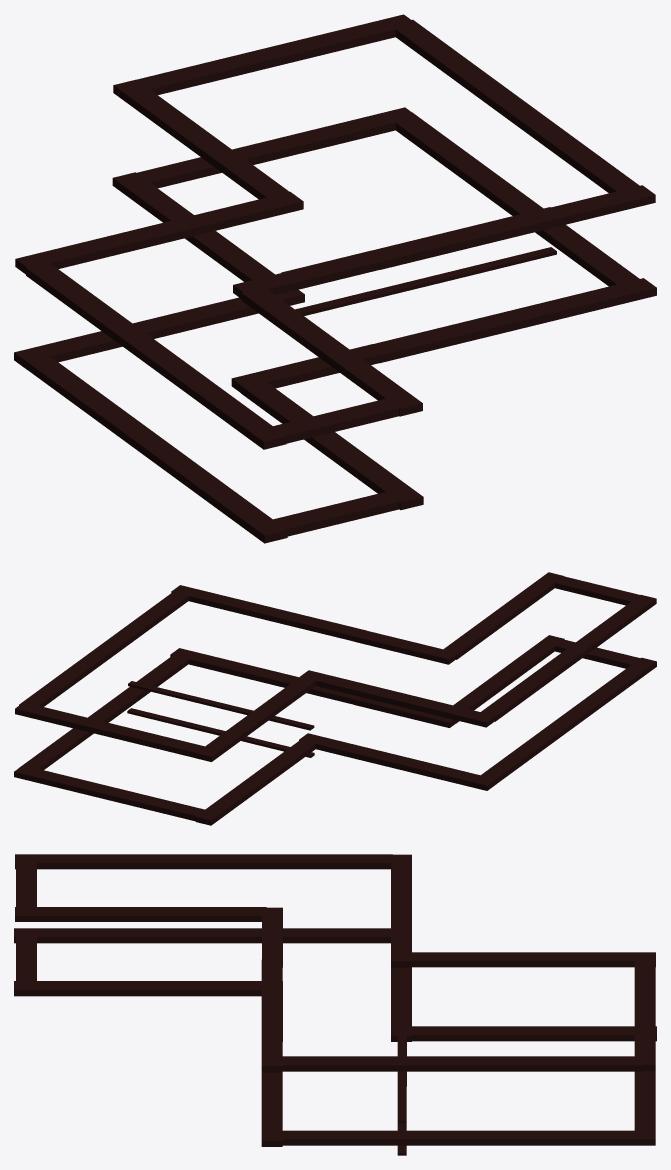
The model's file is level3B.obj.
3 views of the same model, one above another, from view 1: azimuth 30°, elevation 25°; view 2: azimuth 150°, elevation 25°; view 3: azimuth 270°, elevation 25° (orthographic). The views are drawn at different scales.
Visible parts, largest first — view 1: Cube.041_Cube.248, Cube.042_Cube.249, Cube.039_Cube.246, Cube.002_Cube.012, Cube.040_Cube.247, Cube.044_Cube.242, Cube.043_Cube.241, Cube.003_Cube.191, Cube.030_Cube.240, Cube.027_Cube.219, Cube.025_Cube.218, Cube.026_Cube.216 (+26 smaller); view 2: Cube.006_Cube.192, Cube.003_Cube.191, Cube.043_Cube.241, Cube.026_Cube.216, Cube.030_Cube.240, Cube.044_Cube.242, Cube.045_Cube.243, Cube.041_Cube.248, Cube.040_Cube.247, Cube.005_Cube.015, Cube.039_Cube.246, Cube.025_Cube.218 (+27 smaller); view 3: Cube.051_Cube.255, Cube.047_Cube.251, Cube.048_Cube.252, Cube.050_Cube.254, Cube.011_Cube.197, Cube.008_Cube.194, Cube.016_Cube.202, Cube.010_Cube.196, Cube.021_Cube.207, Cube.035_Cube.227, Cube.032_Cube.224, Cube.036_Cube.228 (+20 smaller).
Boxes of the visible parts, x1,y1,x2,y2 form: Cube.041_Cube.248: (368,219,519,269); Cube.042_Cube.249: (366,312,519,363); Cube.039_Cube.246: (504,185,655,235); Cube.002_Cube.012: (152,191,303,242); Cube.040_Cube.247: (503,278,656,329); Cube.044_Cube.242: (129,48,280,94); Cube.043_Cube.241: (264,107,417,158); Cube.003_Cube.191: (15,225,166,274); Cube.030_Cube.240: (265,14,416,65); Cube.027_Cube.219: (261,488,414,536); Cube.025_Cube.218: (263,395,413,443); Cube.026_Cube.216: (233,251,382,298); Cube.006_Cube.192: (392,756,496,790); Cube.003_Cube.191: (392,693,494,727); Cube.043_Cube.241: (14,765,118,800); Cube.026_Cube.216: (354,630,455,664); Cube.030_Cube.240: (15,702,115,736); Cube.044_Cube.242: (107,725,209,758); Cube.045_Cube.243: (106,788,210,821); Cube.041_Cube.248: (264,608,366,641); Cube.040_Cube.247: (170,648,274,683); Cube.005_Cube.015: (299,733,403,768); Cube.039_Cube.246: (171,585,273,619); Cube.025_Cube.218: (545,574,647,605); Cube.051_Cube.255: (389,1130,518,1145); Cube.047_Cube.251: (516,1056,643,1071); Cube.048_Cube.252: (515,1130,644,1145); Cube.050_Cube.254: (390,1056,517,1071); Cube.011_Cube.197: (139,854,266,869); Cube.008_Cube.194: (265,854,392,869); Cube.016_Cube.202: (14,981,143,996); Cube.010_Cube.196: (138,928,261,943); Cube.021_Cube.207: (138,981,261,996); Cube.035_Cube.227: (404,952,531,967); Cube.032_Cube.224: (528,952,655,967); Cube.036_Cube.228: (412,1026,532,1041).
Size of the model in its own units: 7.66 by 1.59 by 9.78.
